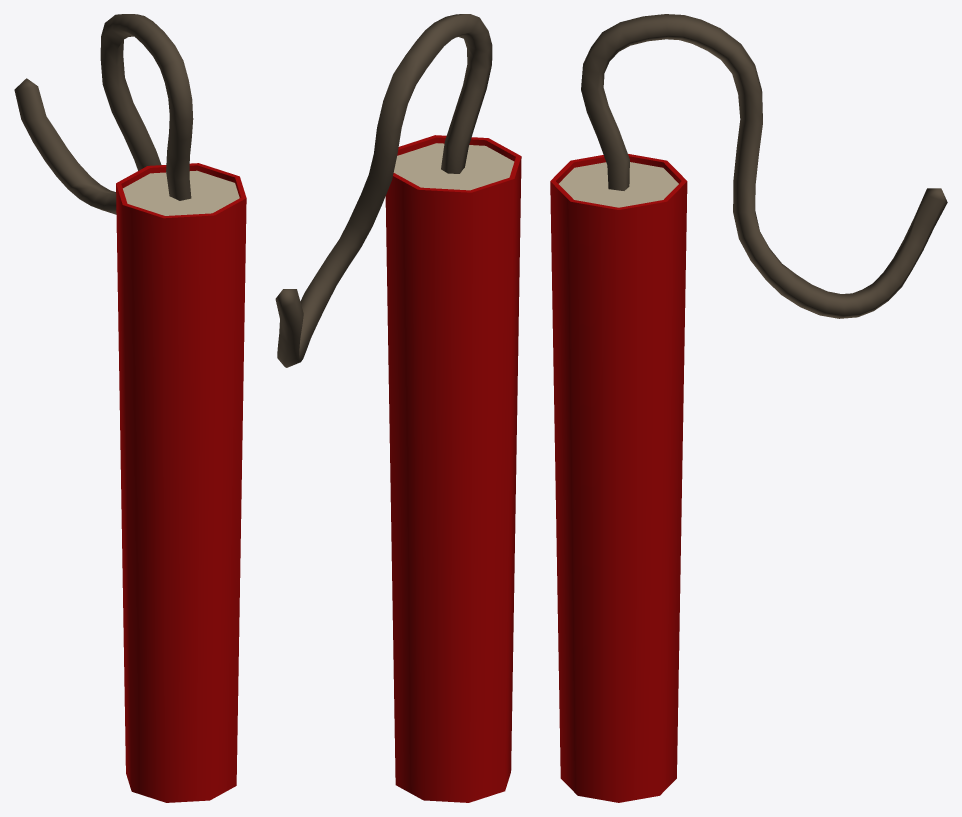
The model's file is dynamite.fbx.
The picture shows the model from 3 angles, left to right: view 1: azimuth 30°, elevation 25°; view 2: azimuth 150°, elevation 25°; view 3: azimuth 270°, elevation 25°; orthographic projection. The views are drawn at different scales.
Visible parts, largest first — view 1: Cylinder004, Line002; view 2: Cylinder004, Line002; view 3: Cylinder004, Line002.
Boxes of the visible parts, x1,y1,x2,y2 form: Cylinder004: [116, 163, 246, 802]; Line002: [14, 14, 193, 214]; Cylinder004: [385, 135, 521, 802]; Line002: [275, 14, 492, 367]; Cylinder004: [550, 154, 687, 802]; Line002: [581, 14, 947, 318].
Size of the model in its own units: 30.63 by 186 by 88.78.
